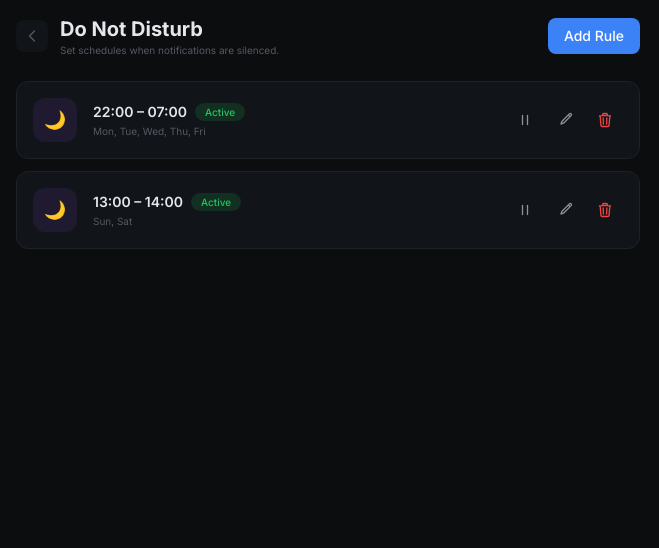
Test: DNDSettingsPage › shows form when Add Rule is clicked
What coordinates should you click on to do the following:
click the button "Add Rule"
I would click on:
 (594, 36)
Its box is [548,18,640,54].
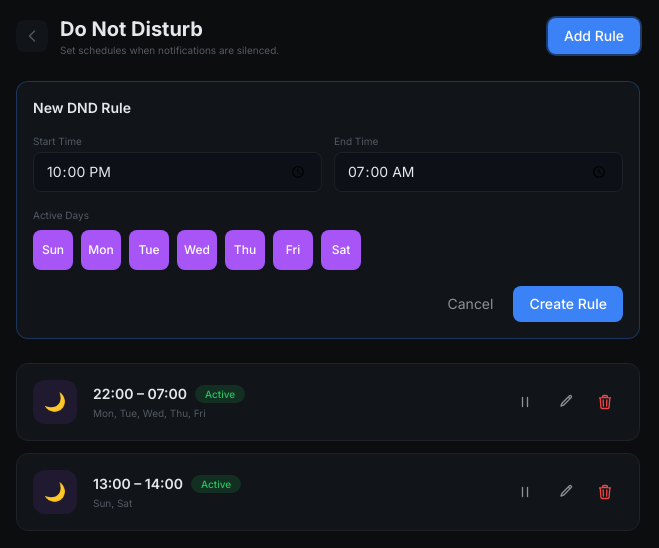
Check: the button "Create Rule" is shown, box [513,286,623,322]
